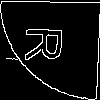R: (24, 25, 73, 63)
